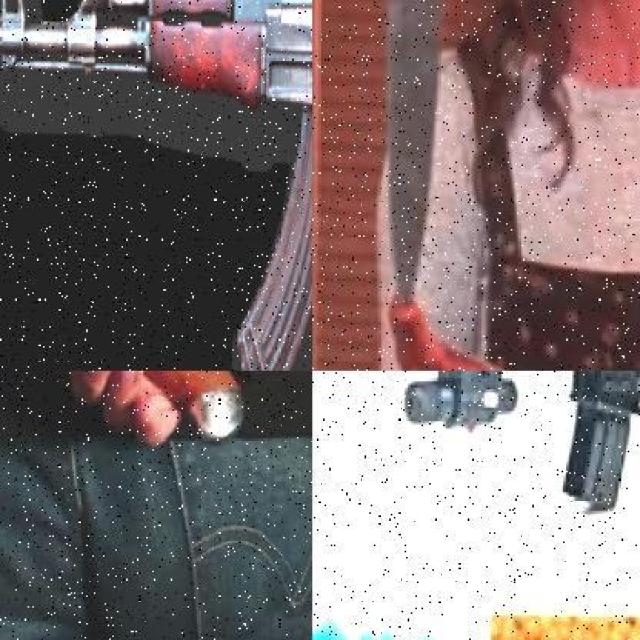weapon: (379, 5, 447, 323)
